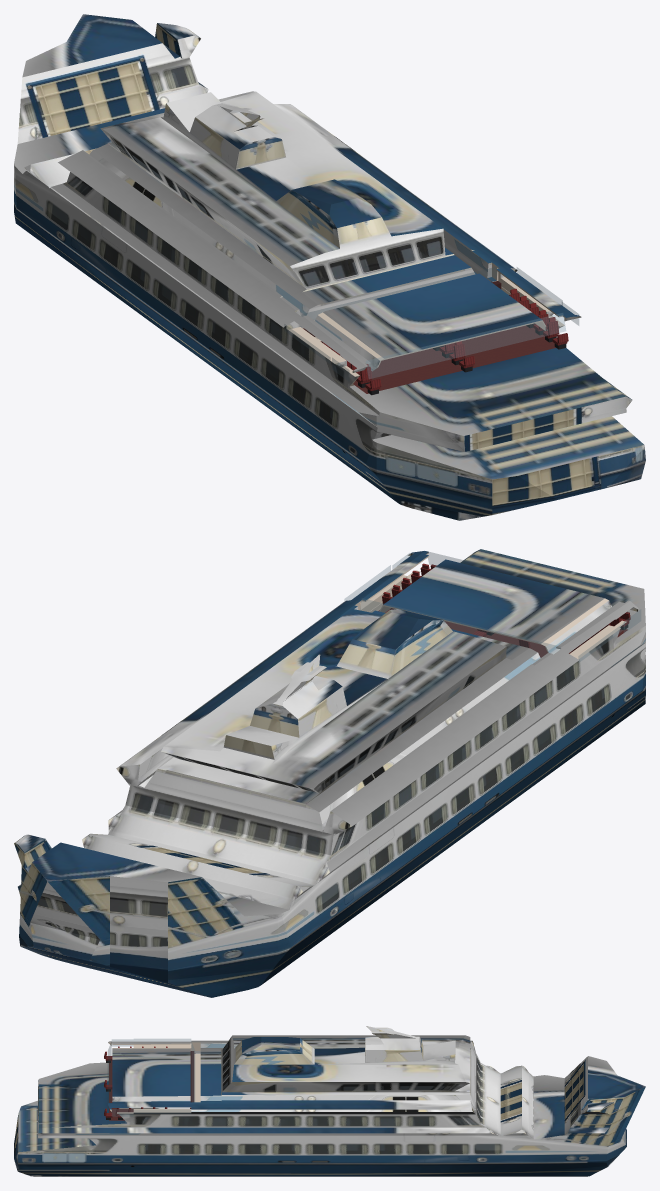
Rendered from ferry.glb.
The picture shows the model from 3 angles, top to bottom: view 1: azimuth 30°, elevation 25°; view 2: azimuth 150°, elevation 25°; view 3: azimuth 270°, elevation 25°; orthographic projection. The views are drawn at different scales.
Parts seen in each view (by area): view 1: ferry, ferry_cabin; view 2: ferry, ferry_cabin; view 3: ferry, ferry_cabin.
Part boxes in pixels (<box>): ferry: <box>14,14,645,520</box>; ferry_cabin: <box>284,266,578,395</box>; ferry: <box>14,549,645,997</box>; ferry_cabin: <box>344,551,640,662</box>; ferry: <box>14,1026,645,1176</box>; ferry_cabin: <box>104,1039,195,1120</box>.
Size of the model in its own units: 11.98 by 9.75 by 44.77.
Materials: 11 (4 with a texture image).
